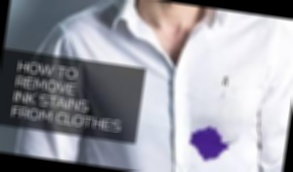ink: (190, 126, 228, 160)
